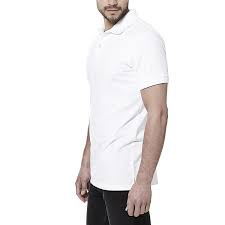S_polo shirt: (76, 8, 166, 190)
